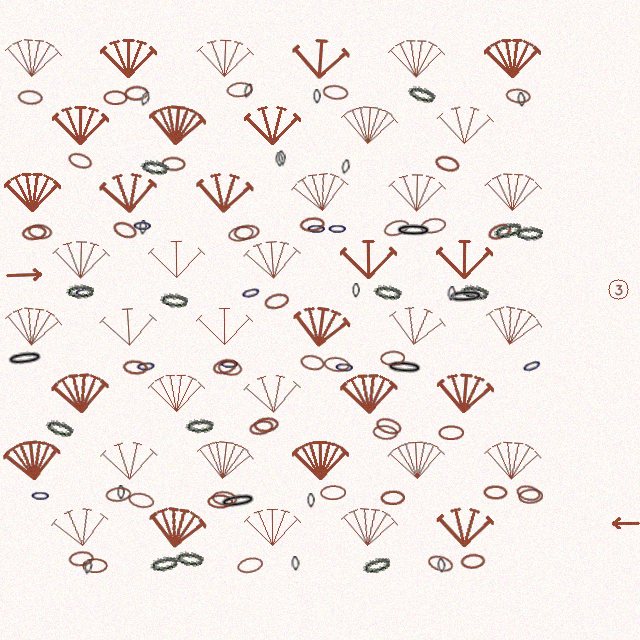chain: (219, 491, 257, 511), (6, 349, 44, 368), (406, 83, 437, 105), (492, 219, 523, 241), (44, 417, 75, 439), (361, 554, 392, 576), (486, 220, 514, 243), (382, 217, 411, 239), (374, 415, 403, 437), (149, 553, 179, 574), (447, 288, 484, 305), (386, 359, 423, 376), (66, 150, 94, 172), (111, 219, 139, 241), (426, 553, 455, 574), (433, 153, 461, 174), (211, 356, 239, 377), (236, 555, 264, 575), (395, 223, 432, 238), (263, 291, 290, 311), (515, 483, 542, 503), (227, 224, 255, 243), (419, 216, 447, 235), (127, 491, 155, 510), (140, 158, 169, 176), (373, 283, 402, 301), (460, 283, 489, 301), (299, 353, 326, 372), (248, 418, 275, 437), (520, 355, 544, 376), (185, 417, 214, 434), (175, 550, 204, 567), (233, 223, 260, 241), (505, 87, 531, 105), (217, 359, 243, 377), (226, 81, 253, 98), (322, 84, 349, 101), (323, 356, 350, 373), (105, 486, 132, 503), (211, 490, 238, 507), (239, 283, 263, 302), (515, 225, 543, 241), (66, 283, 94, 299), (160, 292, 188, 308), (17, 89, 43, 106), (27, 223, 53, 240), (21, 224, 47, 241), (299, 216, 325, 233), (122, 359, 148, 376), (253, 416, 279, 433), (372, 424, 398, 441), (68, 550, 94, 567), (460, 553, 486, 569), (124, 85, 149, 101), (161, 156, 186, 172), (380, 350, 405, 366), (518, 488, 543, 504), (438, 425, 464, 440), (207, 494, 233, 509), (320, 485, 346, 500), (82, 558, 108, 573), (103, 90, 128, 105), (380, 490, 405, 505), (483, 485, 508, 500), (135, 358, 157, 374), (334, 359, 355, 375), (132, 218, 153, 233), (327, 221, 348, 236), (306, 221, 327, 236), (74, 285, 95, 300), (219, 356, 240, 371), (30, 488, 51, 503), (139, 91, 151, 107), (242, 83, 254, 99), (340, 159, 351, 175), (277, 150, 287, 166), (83, 559, 93, 575), (517, 92, 526, 107), (275, 152, 284, 167), (447, 286, 456, 301), (291, 556, 300, 571), (437, 558, 446, 573), (313, 89, 321, 104), (139, 220, 147, 235), (352, 283, 360, 298), (117, 485, 125, 500), (307, 493, 315, 508)
fan: (481, 300, 545, 353), (385, 301, 448, 352), (290, 302, 352, 352), (146, 503, 208, 553), (290, 168, 351, 217), (2, 436, 63, 485), (194, 436, 255, 485), (50, 503, 111, 552), (3, 303, 63, 351), (3, 35, 63, 82), (147, 102, 207, 149), (339, 102, 399, 149), (435, 370, 495, 417), (339, 504, 399, 551), (51, 370, 110, 417), (291, 36, 350, 82), (99, 170, 158, 216), (195, 170, 254, 216), (243, 237, 302, 283), (99, 304, 158, 350), (243, 371, 302, 417), (483, 438, 542, 484), (387, 438, 446, 483), (196, 36, 254, 81), (436, 103, 494, 148), (484, 170, 542, 215), (436, 505, 494, 550), (388, 171, 446, 215), (52, 238, 110, 282), (340, 372, 398, 416), (100, 439, 158, 483), (388, 37, 445, 81), (100, 37, 157, 80), (484, 37, 541, 80), (52, 104, 109, 147), (244, 104, 301, 147), (4, 171, 61, 214), (148, 238, 205, 281), (340, 238, 397, 281), (436, 238, 493, 281), (196, 305, 253, 348), (148, 372, 205, 415), (292, 439, 349, 482), (244, 506, 301, 549)
noise: (606, 277, 631, 302), (5, 267, 44, 283), (609, 517, 640, 529)
